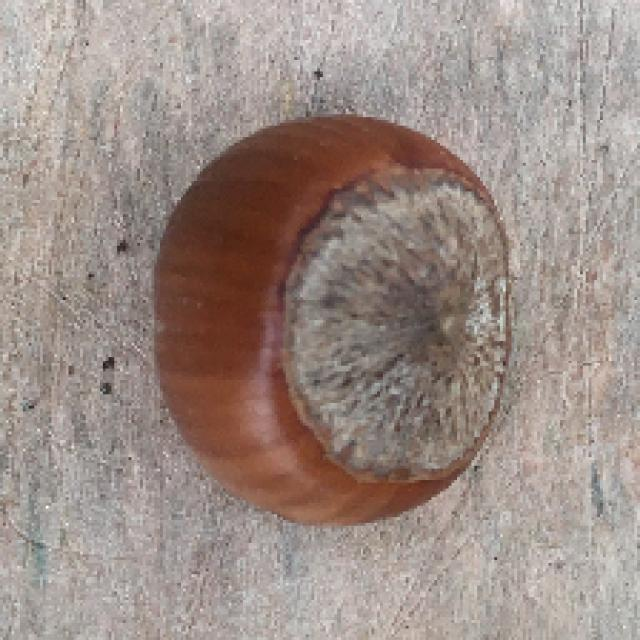DamagedHazelnut: (153, 110, 515, 526)
